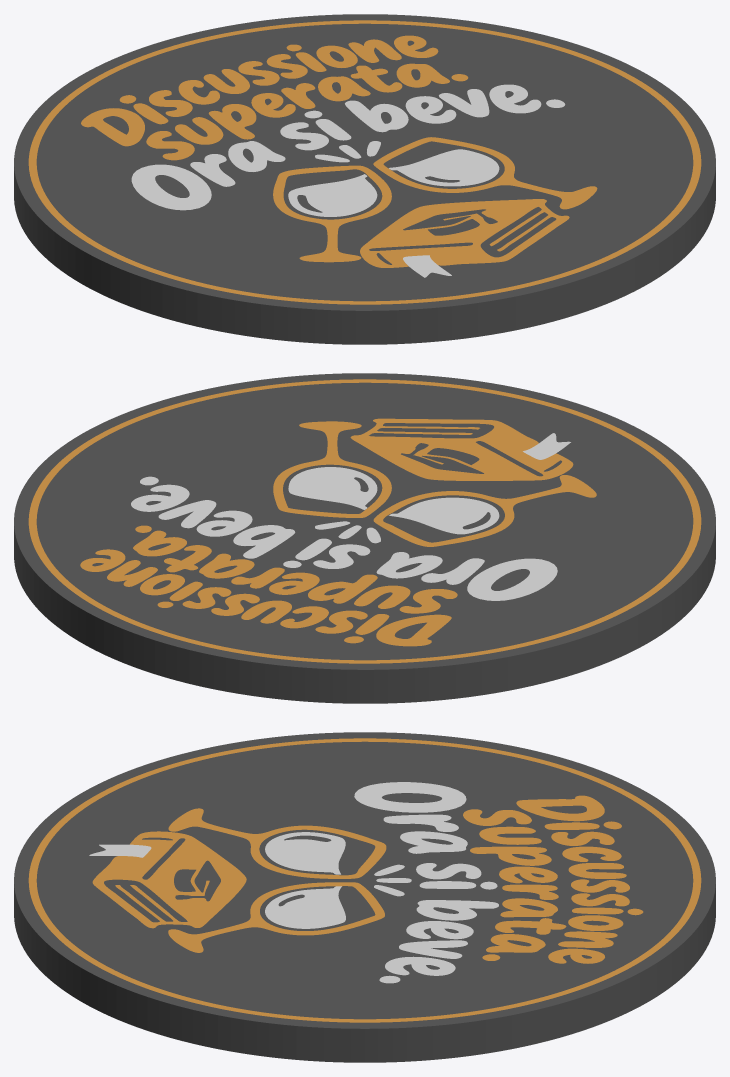
File: sottobicchiere-discussione-superata.glb
3 renders of one model, top to bottom at view 1: azimuth 30°, elevation 25°; view 2: azimuth 150°, elevation 25°; view 3: azimuth 270°, elevation 25°, orthographic.
Parts seen in each view (by area): view 1: coaster_base, coaster_ink, coaster_accent; view 2: coaster_base, coaster_ink, coaster_accent; view 3: coaster_base, coaster_ink, coaster_accent.
Part boxes in pixels (bbox=[...]): coaster_base: bbox=[14, 14, 715, 344]; coaster_ink: bbox=[28, 20, 701, 304]; coaster_accent: bbox=[131, 84, 565, 277]; coaster_base: bbox=[14, 373, 715, 703]; coaster_ink: bbox=[28, 379, 701, 663]; coaster_accent: bbox=[131, 433, 570, 600]; coaster_base: bbox=[14, 732, 715, 1062]; coaster_ink: bbox=[28, 738, 701, 1022]; coaster_accent: bbox=[89, 782, 498, 983].
Size of the model in its own units: 0.075 by 0.004 by 0.075.
